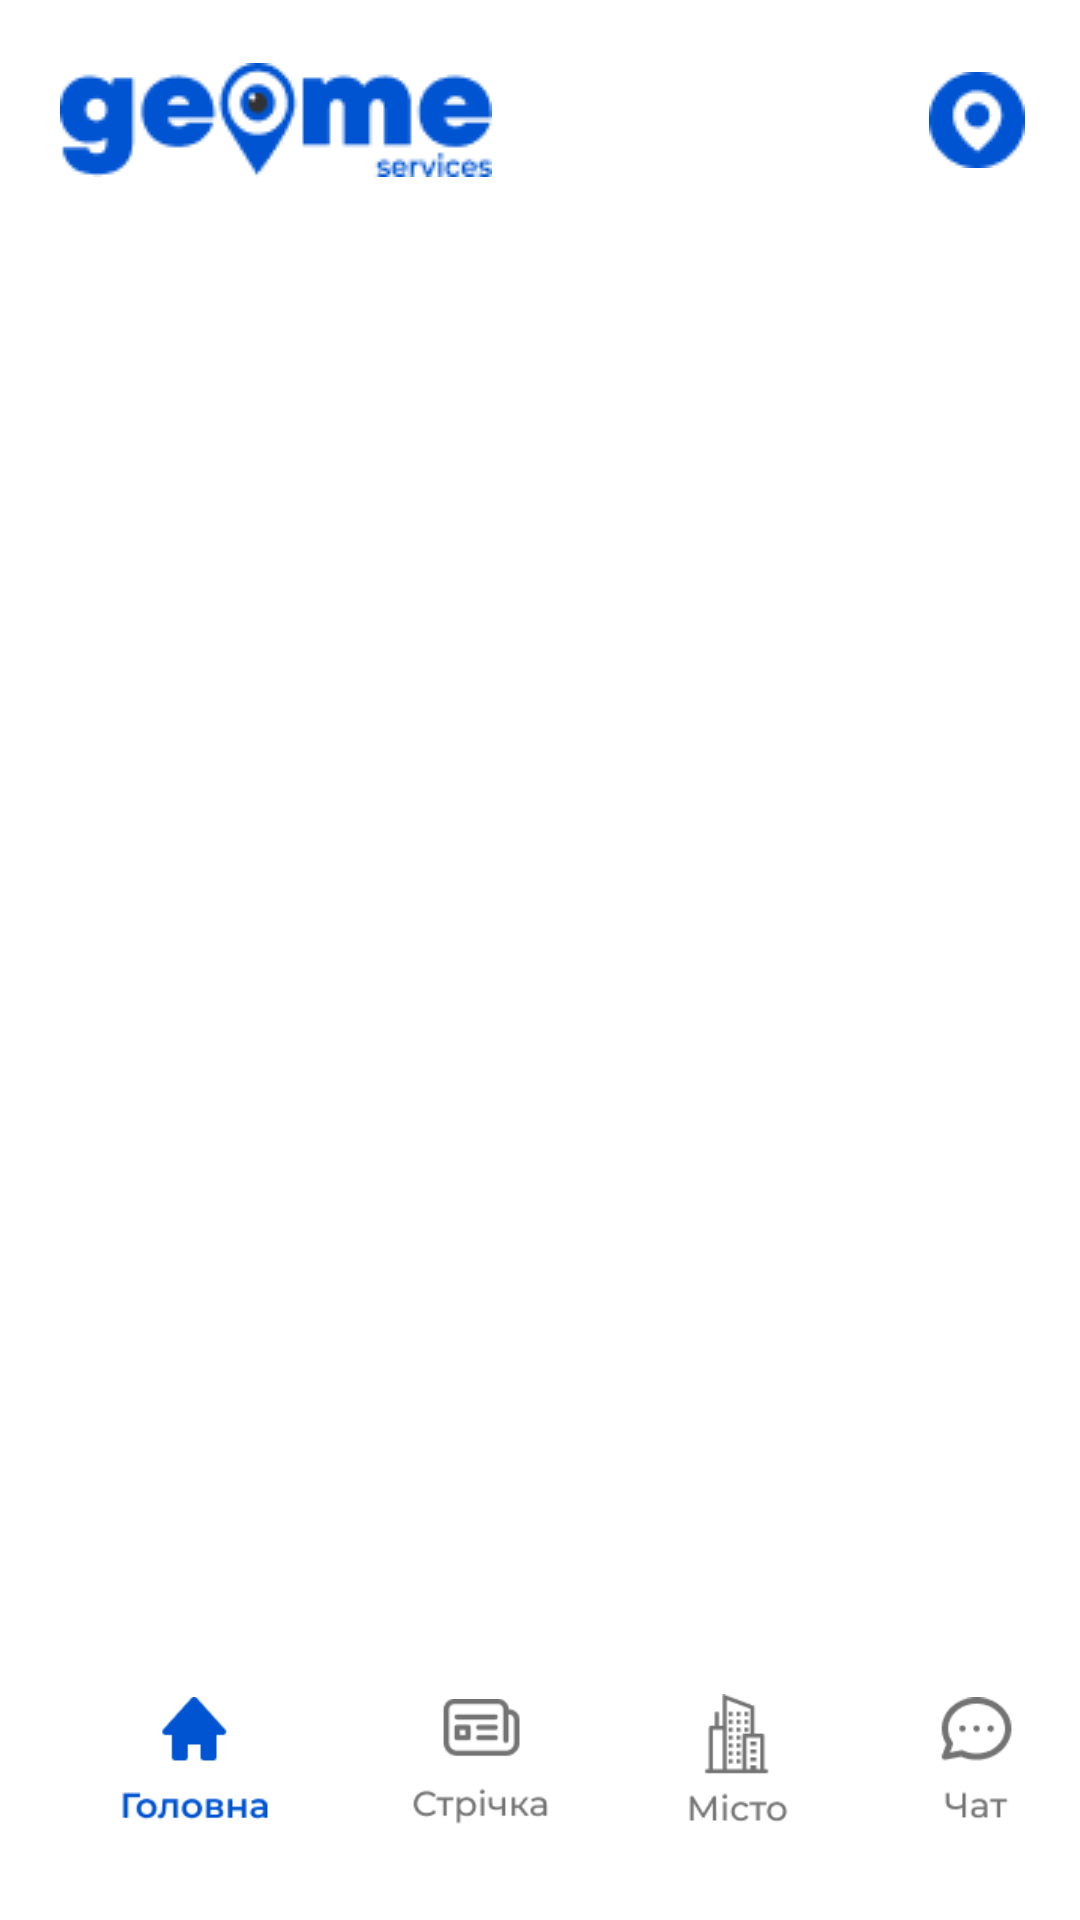

Where to tap for icons on this 1080x1920 app screen, as [x,y]:
Кнопка Мапа: [977,120]
